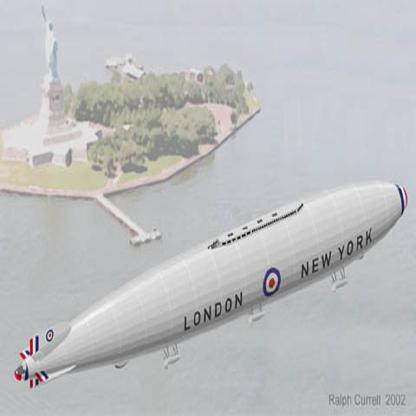Airship: (12, 182, 409, 389)
